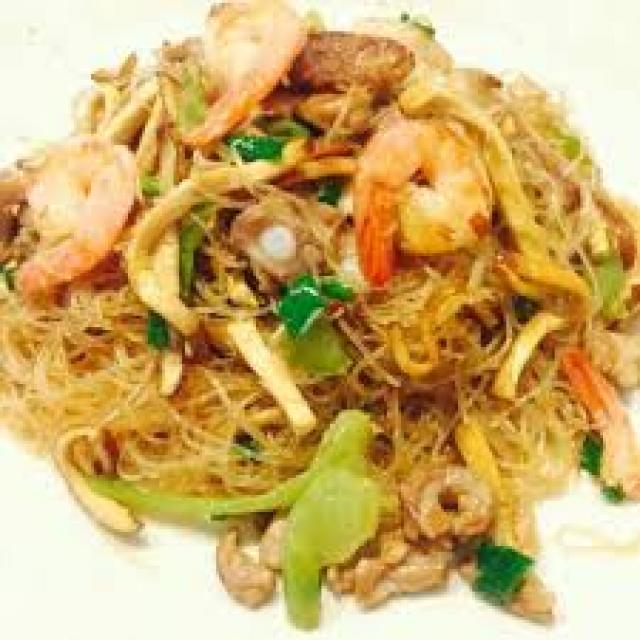organic waste: (0, 0, 637, 626), (114, 148, 296, 333), (344, 108, 492, 276), (273, 404, 384, 617), (68, 429, 330, 515), (173, 0, 315, 139), (15, 134, 140, 287), (460, 91, 554, 256), (478, 254, 586, 396), (284, 26, 410, 134), (560, 170, 638, 336), (552, 350, 637, 498), (222, 302, 313, 435), (145, 125, 188, 387), (222, 318, 318, 432), (51, 418, 137, 538), (398, 458, 495, 538), (450, 546, 554, 620), (268, 304, 344, 378), (210, 518, 276, 603), (100, 68, 165, 142), (469, 534, 526, 592), (0, 156, 31, 261), (77, 54, 105, 137), (91, 54, 131, 111), (134, 91, 159, 176), (287, 154, 358, 174)
